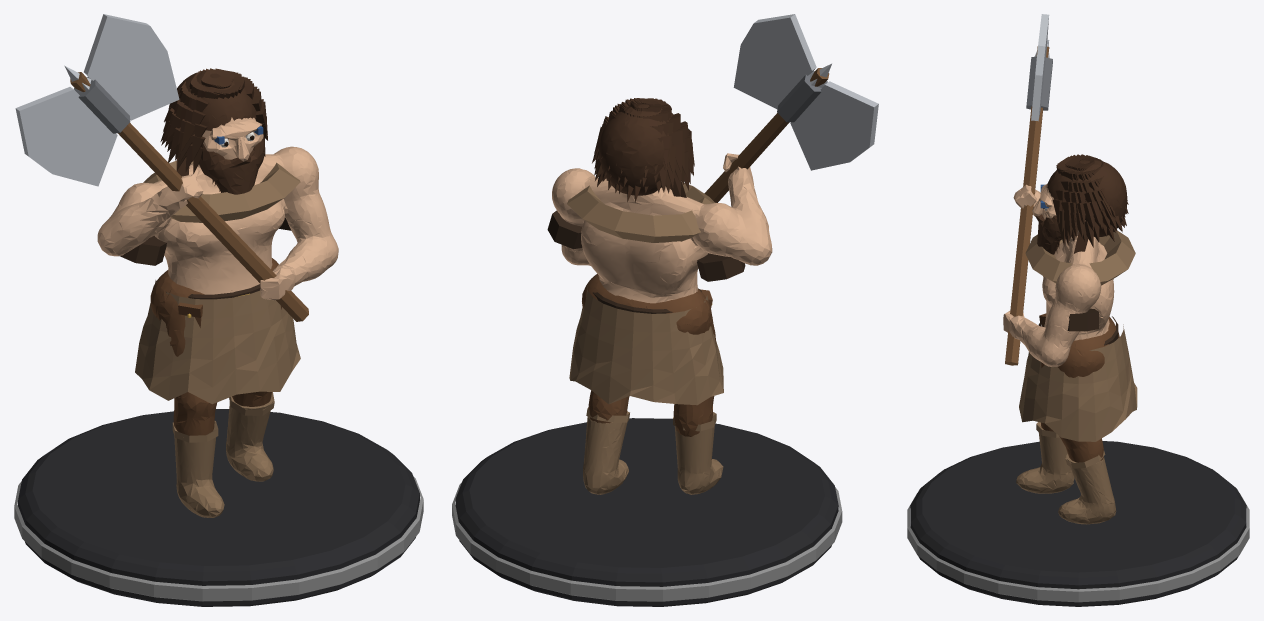
Rendered from barbarian.glb.
The picture shows the model from 3 angles, left to right: view 1: azimuth 30°, elevation 25°; view 2: azimuth 150°, elevation 25°; view 3: azimuth 270°, elevation 25°; orthographic projection. The views are drawn at different scales.
Parts seen in each view (by area): view 1: barbarian; view 2: barbarian; view 3: barbarian.
Boxes of the visible parts, box(x1,y1,x2,y2) form: barbarian: box(14, 14, 423, 606); barbarian: box(452, 14, 878, 606); barbarian: box(907, 14, 1249, 606).
Size of the model in its own units: 0.962 by 1.28 by 0.8498.
